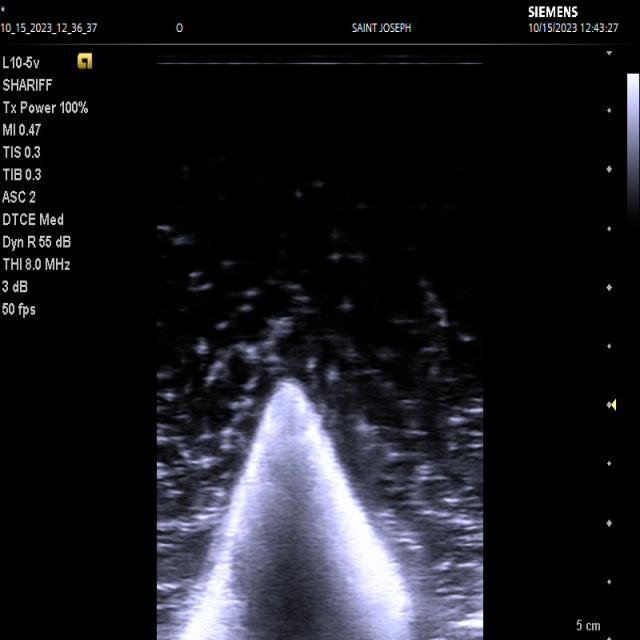tissue: (178, 378, 418, 640)
